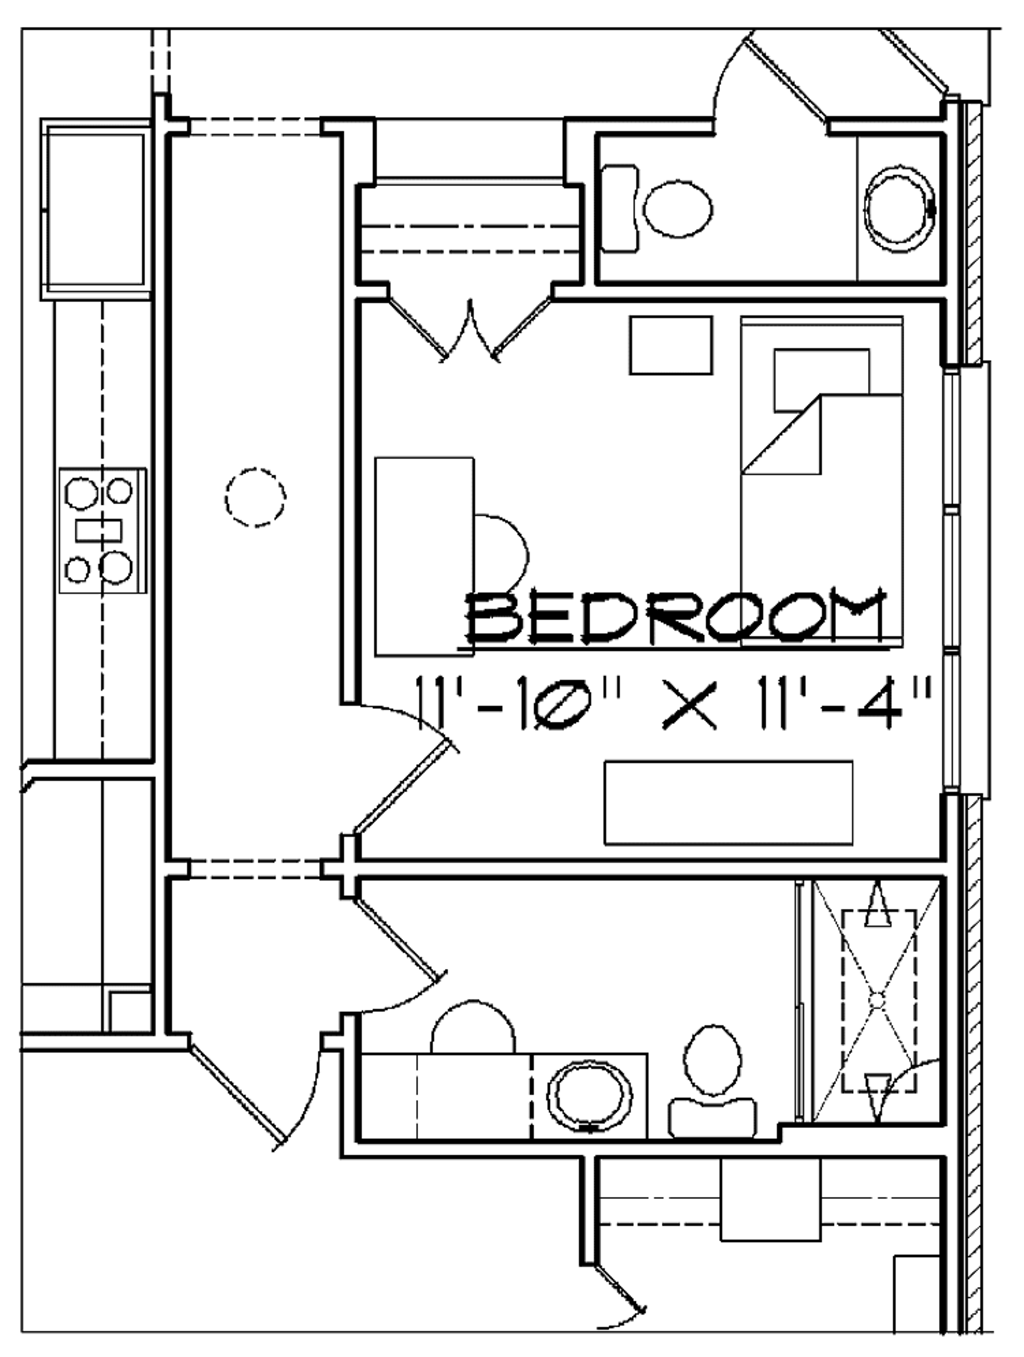bed: (730, 310, 906, 652)
door: (186, 1035, 319, 1153), (336, 700, 457, 825), (712, 25, 836, 142), (382, 287, 549, 363), (342, 892, 441, 1019)
large_sink: (658, 1013, 773, 1147), (596, 163, 720, 263)
small_sink: (852, 125, 951, 286), (529, 1053, 652, 1146)
